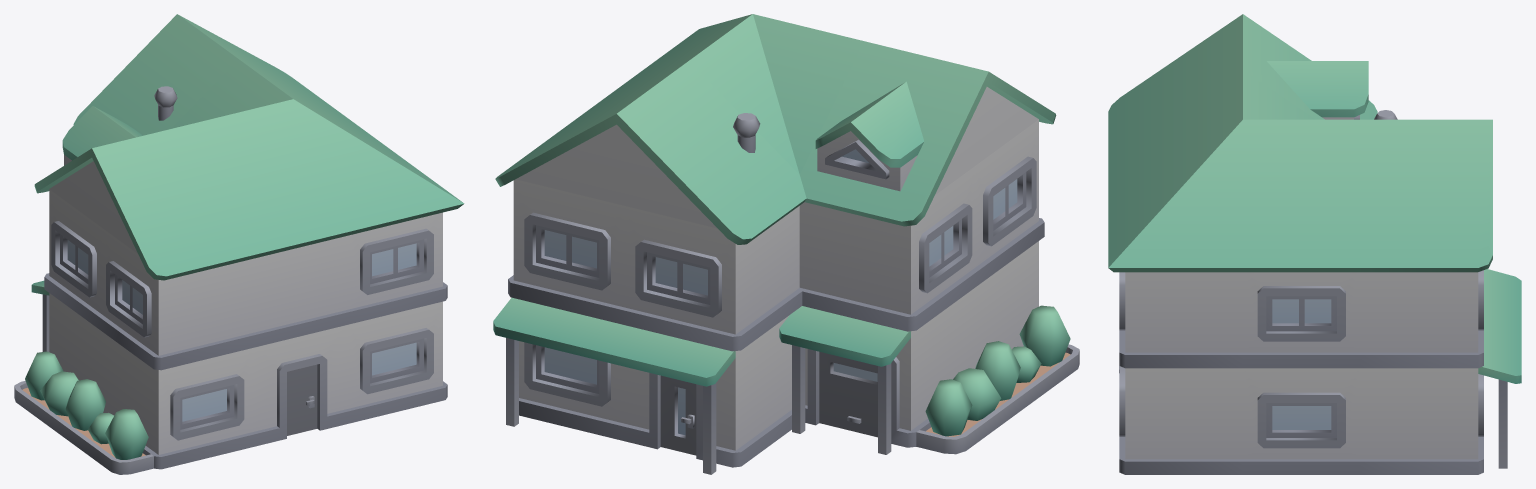
Rendered from building-type-f.glb.
3 views of the same model, side by side, from view 1: azimuth 30°, elevation 25°; view 2: azimuth 150°, elevation 25°; view 3: azimuth 270°, elevation 25° (orthographic). The views are drawn at different scales.
Parts seen in each view (by area): view 1: building-type-f; view 2: building-type-f; view 3: building-type-f.
Boxes of the visible parts, x1,y1,x2,y2 form: building-type-f: (14, 14, 464, 474); building-type-f: (493, 14, 1079, 474); building-type-f: (1108, 14, 1521, 474).
Bounding box in the file's own units: 1.43 × 1.14 × 1.41.
